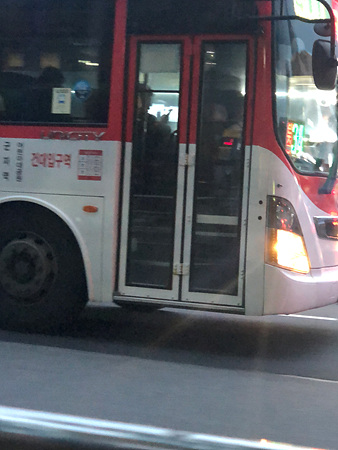entrance: (123, 38, 251, 299)
